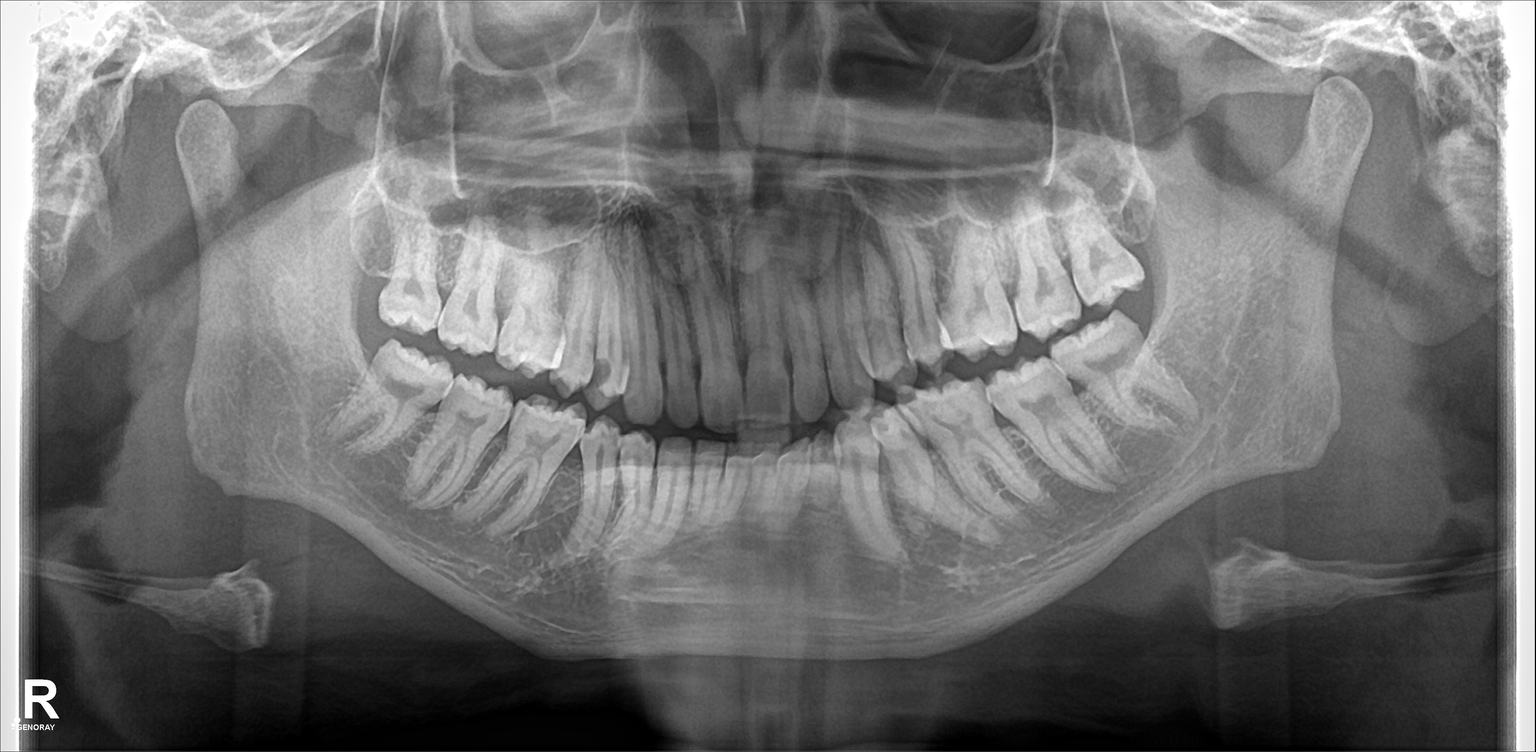Dental Caries: (588, 359, 614, 389)
Missing Tooth: (352, 218, 389, 325)
